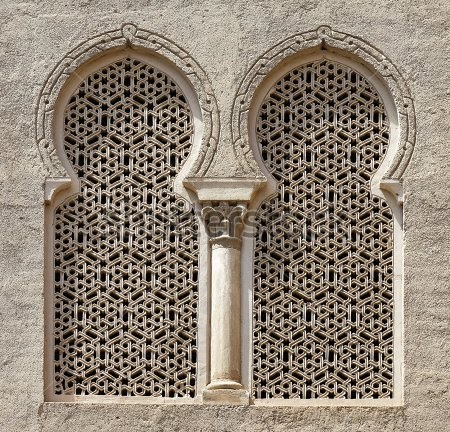arco-herradura: (36, 28, 219, 219), (231, 32, 419, 217)
